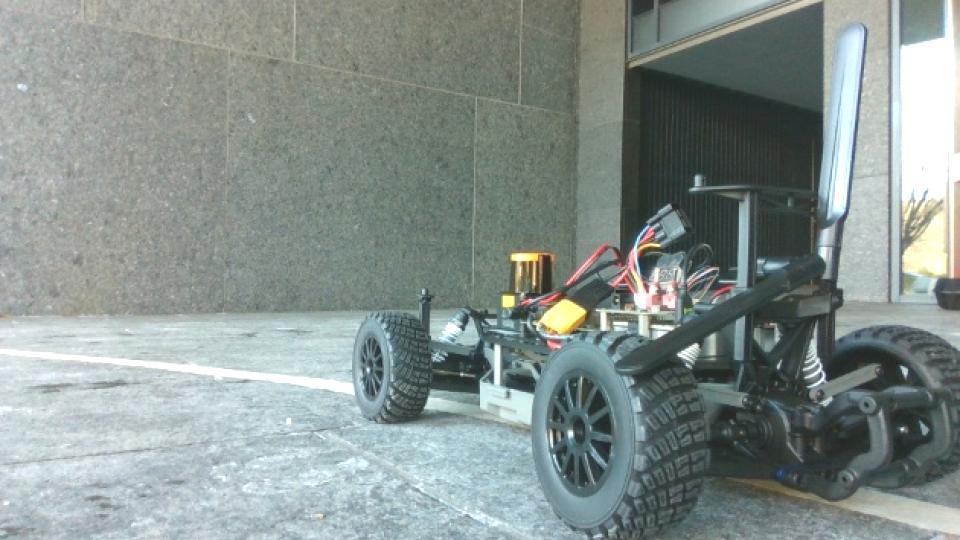car: (347, 20, 960, 540)
